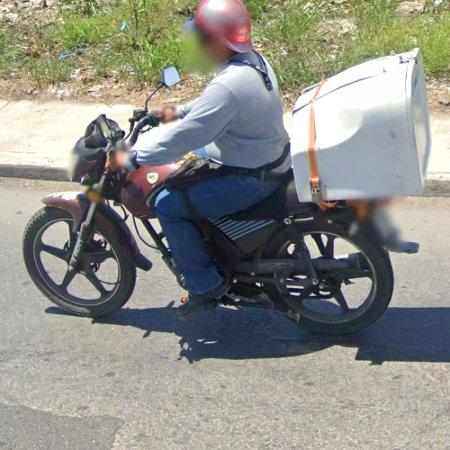motorcycles: (24, 204, 136, 316)
